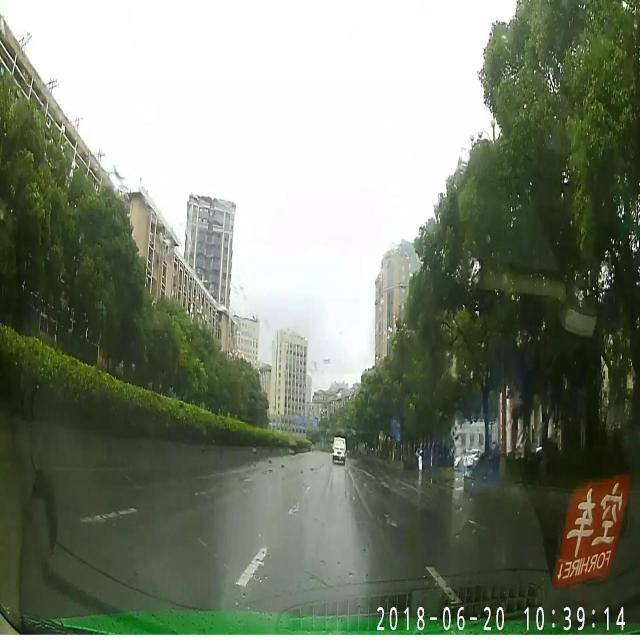car: (332, 435, 347, 464)
